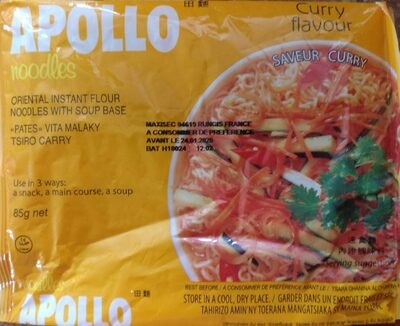Nouilles - Saveur Curry: (20, 16, 380, 310)
